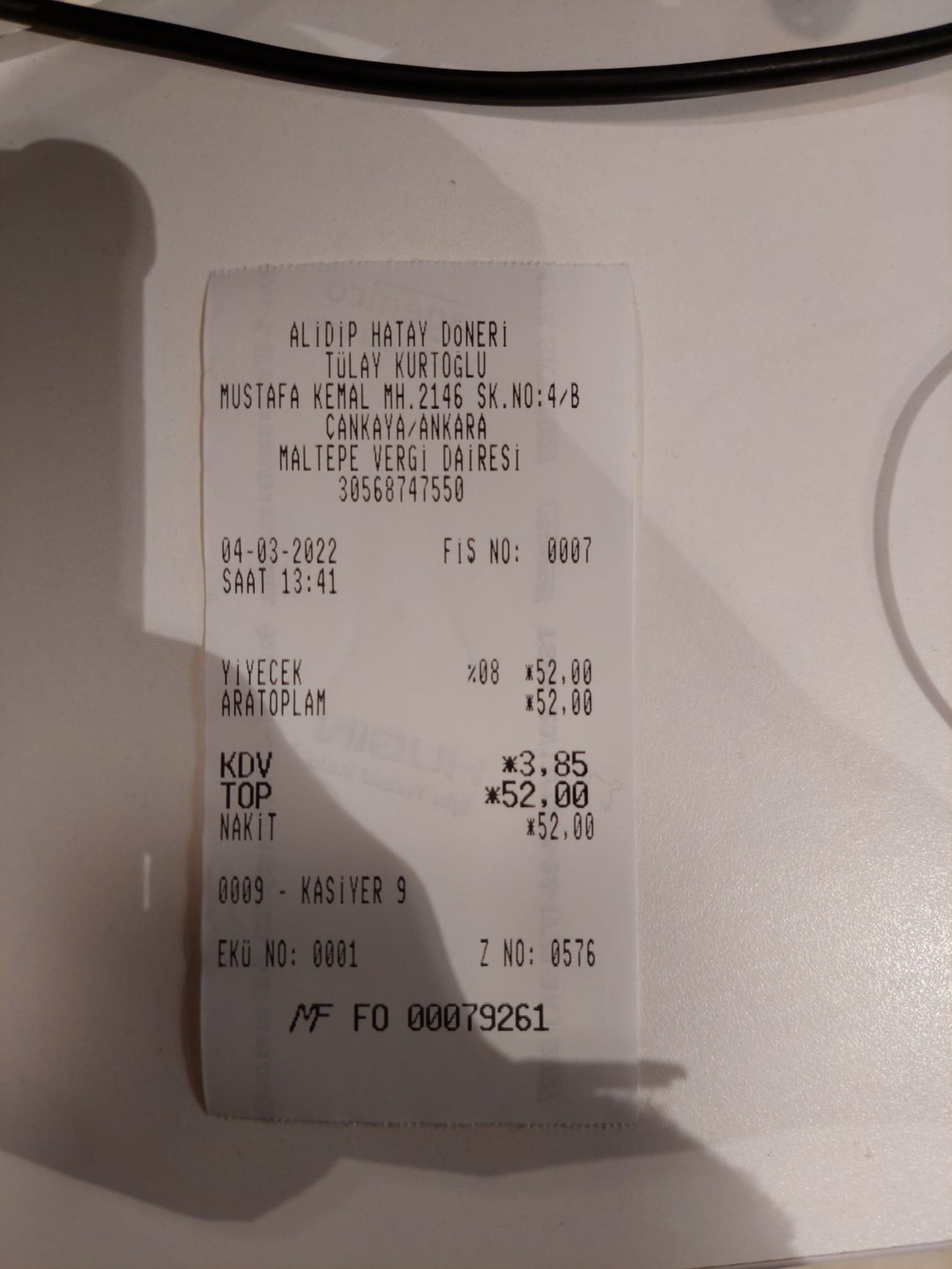date: (497, 773, 603, 812)
price: (215, 531, 351, 570)
workplace: (215, 308, 597, 443)
